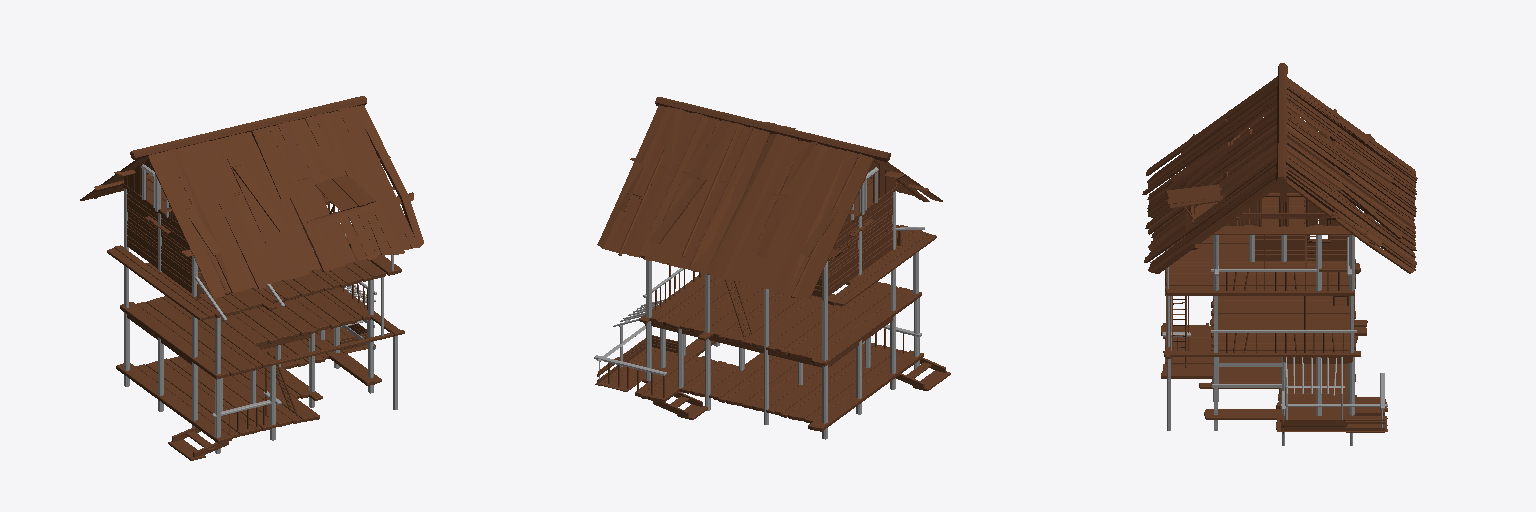
Rendered from -LOD0_hut_003.obj.
The picture shows the model from 3 angles: view 1: azimuth 30°, elevation 25°; view 2: azimuth 150°, elevation 25°; view 3: azimuth 270°, elevation 25°; orthographic projection.
Parts seen in each view (by area): view 1: Roof.001_Cube.000, Cylinder.002, Cylinder.000_Cylinder.001; view 2: Roof.001_Cube.000, Cylinder.002, Cylinder.000_Cylinder.001; view 3: Cylinder.002, Roof.001_Cube.000, Cylinder.000_Cylinder.001.
Boxes of the visible parts, <box> form: Roof.001_Cube.000: <box>80,96,423,298</box>; Cylinder.002: <box>94,131,404,460</box>; Cylinder.000_Cylinder.001: <box>124,164,397,453</box>; Roof.001_Cube.000: <box>597,97,942,298</box>; Cylinder.002: <box>595,109,950,431</box>; Cylinder.000_Cylinder.001: <box>594,167,924,439</box>; Cylinder.002: <box>1150,81,1417,433</box>; Roof.001_Cube.000: <box>1142,63,1416,273</box>; Cylinder.000_Cylinder.001: <box>1162,122,1387,445</box>.
Size of the model in its own units: 16.86 by 17.33 by 16.21.